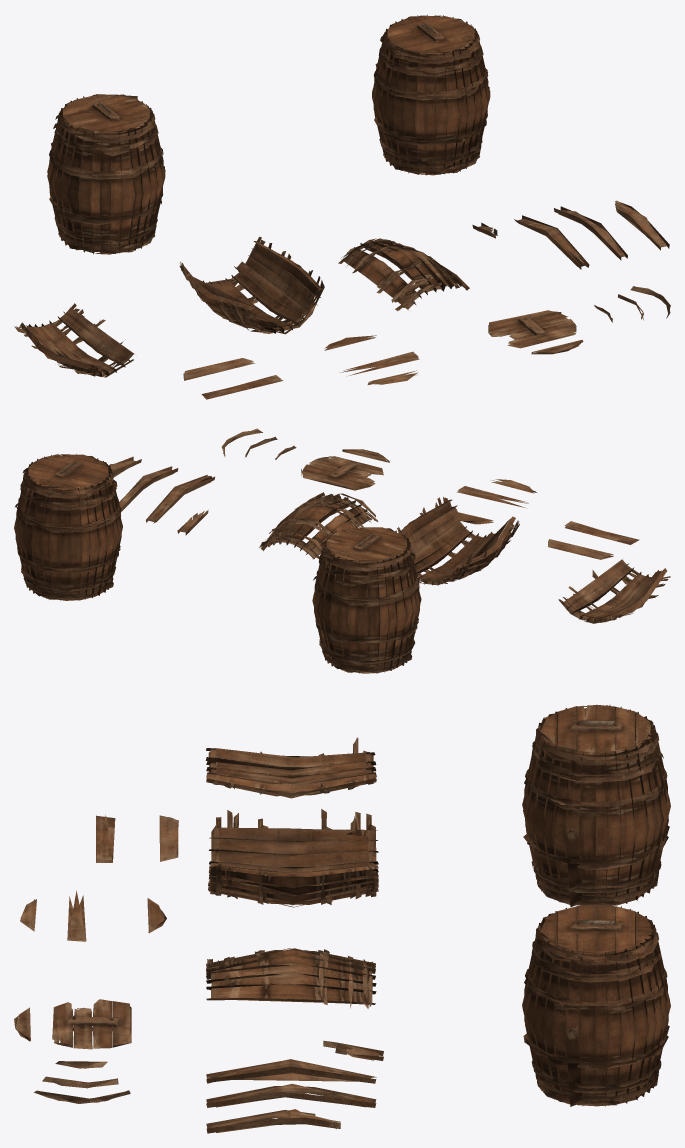
File: wooden_barrels_01.glb
3 views of the same model, one above another, from view 1: azimuth 30°, elevation 25°; view 2: azimuth 150°, elevation 25°; view 3: azimuth 270°, elevation 25° (orthographic). The views are drawn at different scales.
Parts seen in each view (by area): view 1: wooden_barrels_01_barrel02, wooden_barrels_01_barrel01, wooden_barrels_01_piece01, wooden_barrels_01_piece03, wooden_barrels_01_piece02, wooden_barrels_01_piece08, wooden_barrels_01_piece04, wooden_barrels_01_piece05, wooden_barrels_01_piece06, wooden_barrels_01_piece13, wooden_barrels_01_piece11, wooden_barrels_01_piece14; view 2: wooden_barrels_01_barrel02, wooden_barrels_01_barrel01, wooden_barrels_01_piece01, wooden_barrels_01_piece03, wooden_barrels_01_piece02, wooden_barrels_01_piece08, wooden_barrels_01_piece04, wooden_barrels_01_piece05, wooden_barrels_01_piece14, wooden_barrels_01_piece13, wooden_barrels_01_piece11; view 3: wooden_barrels_01_barrel01, wooden_barrels_01_barrel02, wooden_barrels_01_piece01, wooden_barrels_01_piece03, wooden_barrels_01_piece02, wooden_barrels_01_piece08, wooden_barrels_01_piece04, wooden_barrels_01_piece05, wooden_barrels_01_piece06, wooden_barrels_01_piece14, wooden_barrels_01_piece13, wooden_barrels_01_piece11 (+1 smaller).
Boxes of the visible parts, x1,y1,x2,y2 form: wooden_barrels_01_barrel02: (47,94,165,254); wooden_barrels_01_barrel01: (372,14,490,175); wooden_barrels_01_piece01: (179,236,324,334); wooden_barrels_01_piece03: (338,238,469,311); wooden_barrels_01_piece02: (14,303,133,377); wooden_barrels_01_piece08: (488,310,576,348); wooden_barrels_01_piece04: (514,215,589,269); wooden_barrels_01_piece05: (554,206,627,260); wooden_barrels_01_piece06: (615,200,669,250); wooden_barrels_01_piece13: (183,358,254,380); wooden_barrels_01_piece11: (339,351,419,376); wooden_barrels_01_piece14: (201,375,283,399); wooden_barrels_01_barrel02: (312,526,421,673); wooden_barrels_01_barrel01: (14,454,122,600); wooden_barrels_01_piece01: (397,497,519,585); wooden_barrels_01_piece03: (259,492,378,559); wooden_barrels_01_piece02: (558,559,670,623); wooden_barrels_01_piece08: (301,456,383,490); wooden_barrels_01_piece04: (145,474,214,523); wooden_barrels_01_piece05: (119,466,178,511); wooden_barrels_01_piece14: (564,521,639,544); wooden_barrels_01_piece13: (548,539,613,559); wooden_barrels_01_piece11: (456,486,528,508); wooden_barrels_01_barrel01: (522,904,670,1106); wooden_barrels_01_barrel02: (522,704,670,907); wooden_barrels_01_piece01: (208,809,378,907); wooden_barrels_01_piece03: (206,948,376,1008); wooden_barrels_01_piece02: (205,737,376,798); wooden_barrels_01_piece08: (52,999,131,1049); wooden_barrels_01_piece04: (206,1059,376,1083); wooden_barrels_01_piece05: (206,1083,376,1107); wooden_barrels_01_piece06: (206,1109,340,1133); wooden_barrels_01_piece14: (96,815,115,862); wooden_barrels_01_piece13: (159,815,178,861); wooden_barrels_01_piece11: (67,890,86,941).
Size of the model in its own units: 4.46 by 0.9558 by 3.36.
3 materials, 3 textured.
